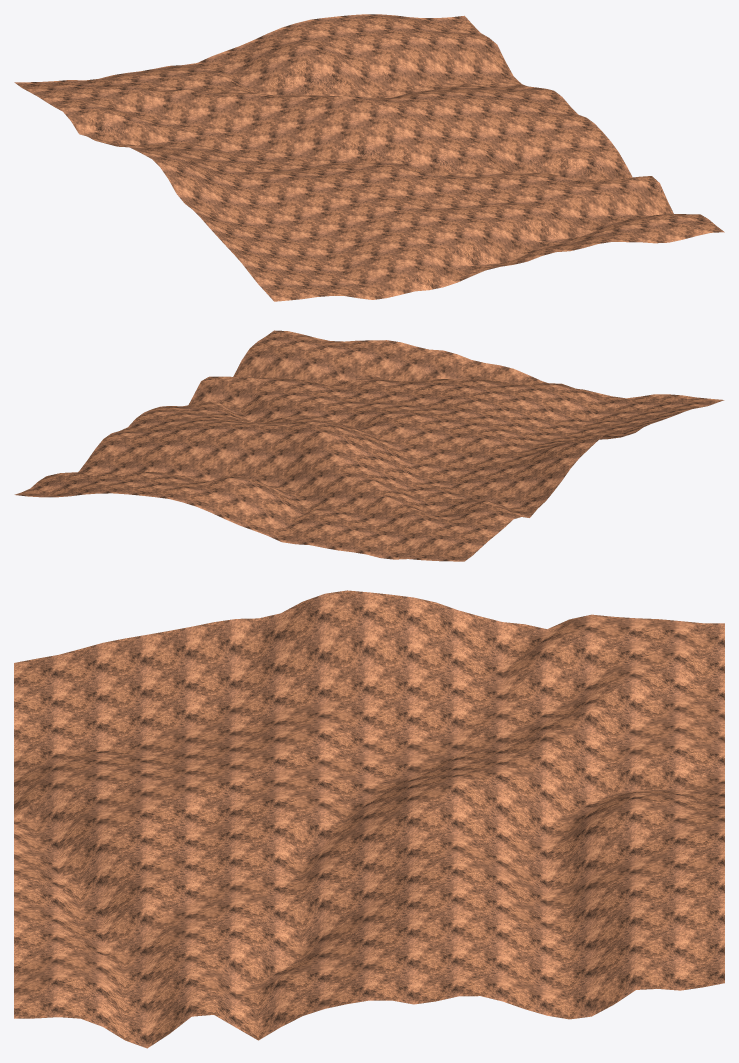
Rendered from terrain_01_00.dae.
3 renders of one model, top to bottom at view 1: azimuth 30°, elevation 25°; view 2: azimuth 150°, elevation 25°; view 3: azimuth 270°, elevation 25°, orthographic. The views are drawn at different scales.
Visible parts, largest first — view 1: terrain_01_00-node; view 2: terrain_01_00-node; view 3: terrain_01_00-node.
Part boxes in pixels (box(x1,y1,x2,y2)): terrain_01_00-node: box(14, 14, 724, 301); terrain_01_00-node: box(14, 330, 724, 561); terrain_01_00-node: box(14, 590, 724, 1048).
Size of the model in its own units: 128 by 128 by 31.31.
Materials: 1 (1 with a texture image).
